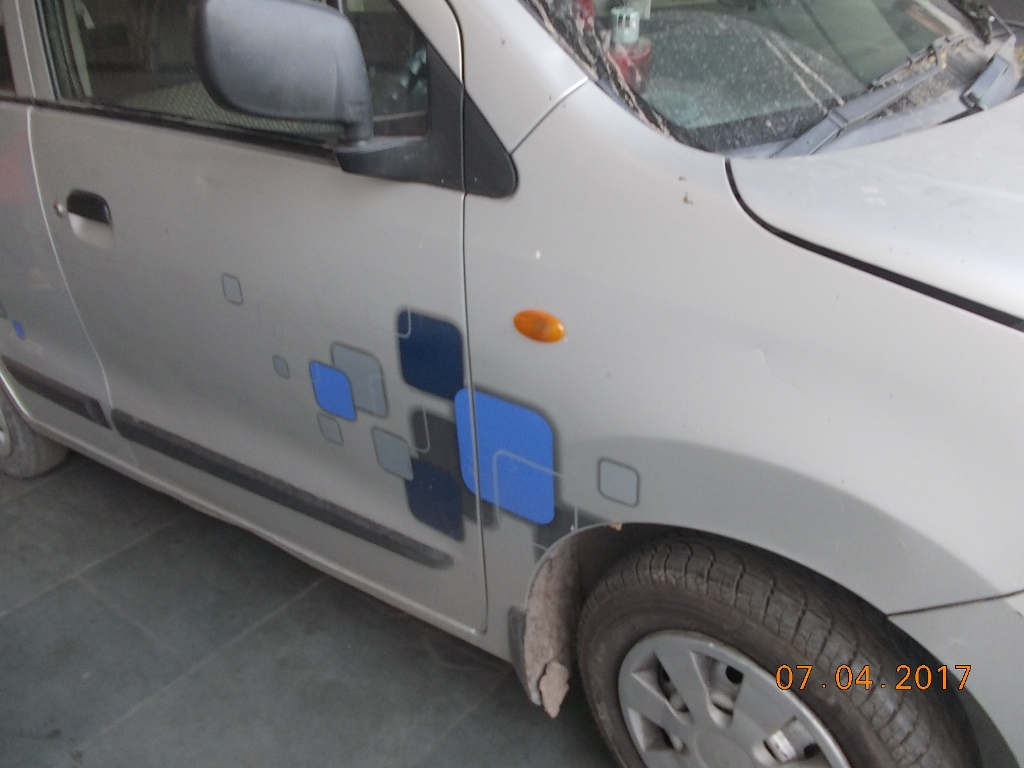Dent: (454, 623, 598, 724)
